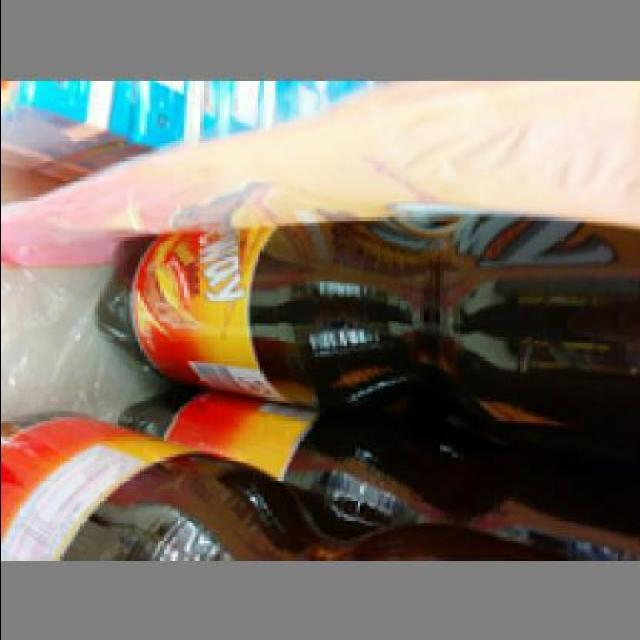Coke: (94, 209, 638, 428), (6, 406, 580, 560)
